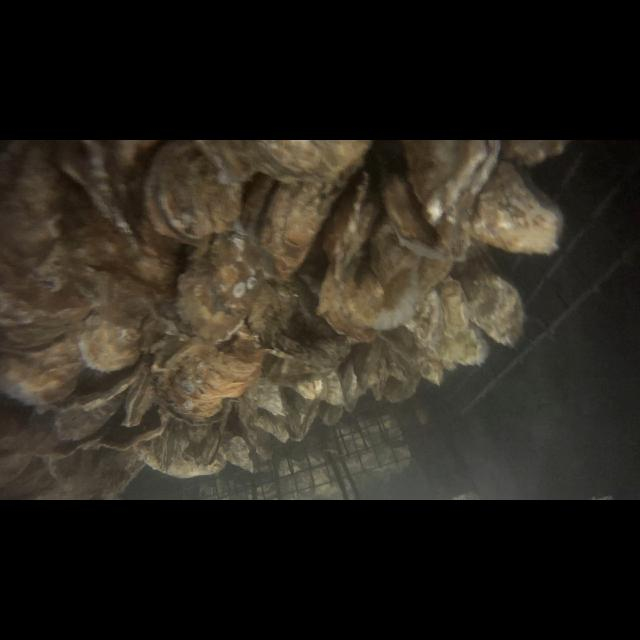Oyster-Closed: (314, 206, 456, 344), (140, 140, 242, 246), (150, 333, 262, 425), (249, 169, 341, 281), (174, 230, 264, 342), (242, 278, 351, 366), (469, 158, 565, 254), (379, 170, 473, 264), (402, 140, 501, 226), (402, 276, 486, 368), (454, 248, 528, 350), (52, 362, 146, 440), (225, 140, 371, 186), (326, 168, 382, 278), (78, 312, 142, 374), (150, 419, 192, 475), (123, 363, 157, 431), (378, 349, 420, 403), (222, 416, 260, 474), (239, 406, 273, 464), (290, 390, 322, 446), (352, 338, 384, 392), (252, 406, 290, 446), (253, 377, 289, 419), (380, 337, 412, 383), (338, 362, 364, 416), (194, 423, 222, 467), (416, 348, 446, 388), (313, 371, 345, 407), (320, 399, 344, 428)
